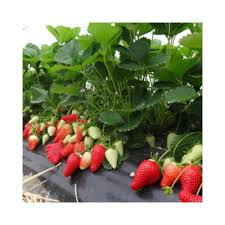Fresa: (128, 156, 164, 194), (177, 161, 203, 196), (159, 160, 183, 190), (88, 142, 108, 174), (62, 150, 82, 180)
